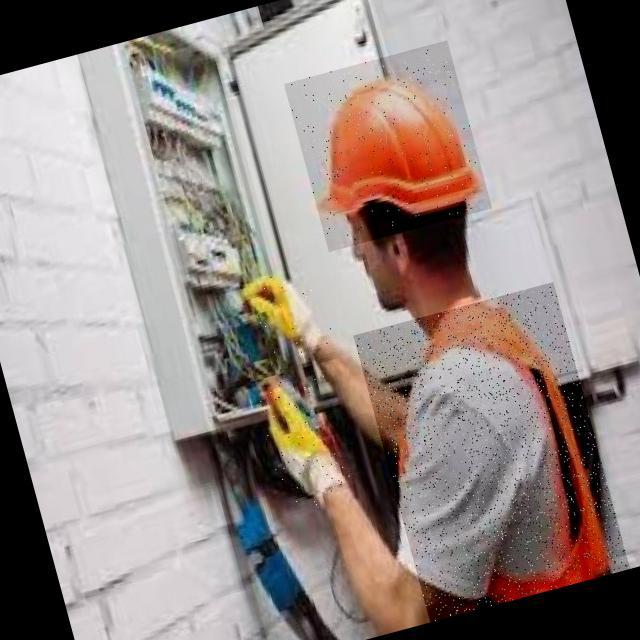Gloves: (242, 375, 360, 516), (238, 269, 328, 372)
Helmet: (284, 40, 492, 252)
Person: (223, 20, 640, 640)
Safety Vest: (353, 282, 630, 622)
